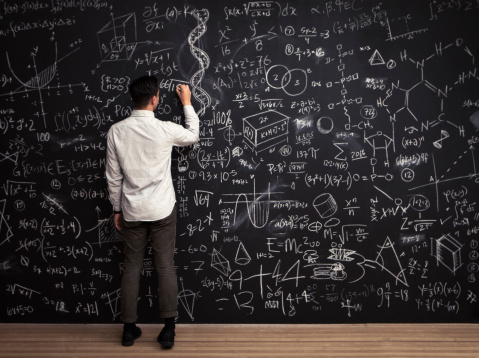em pe: (111, 57, 197, 334)
